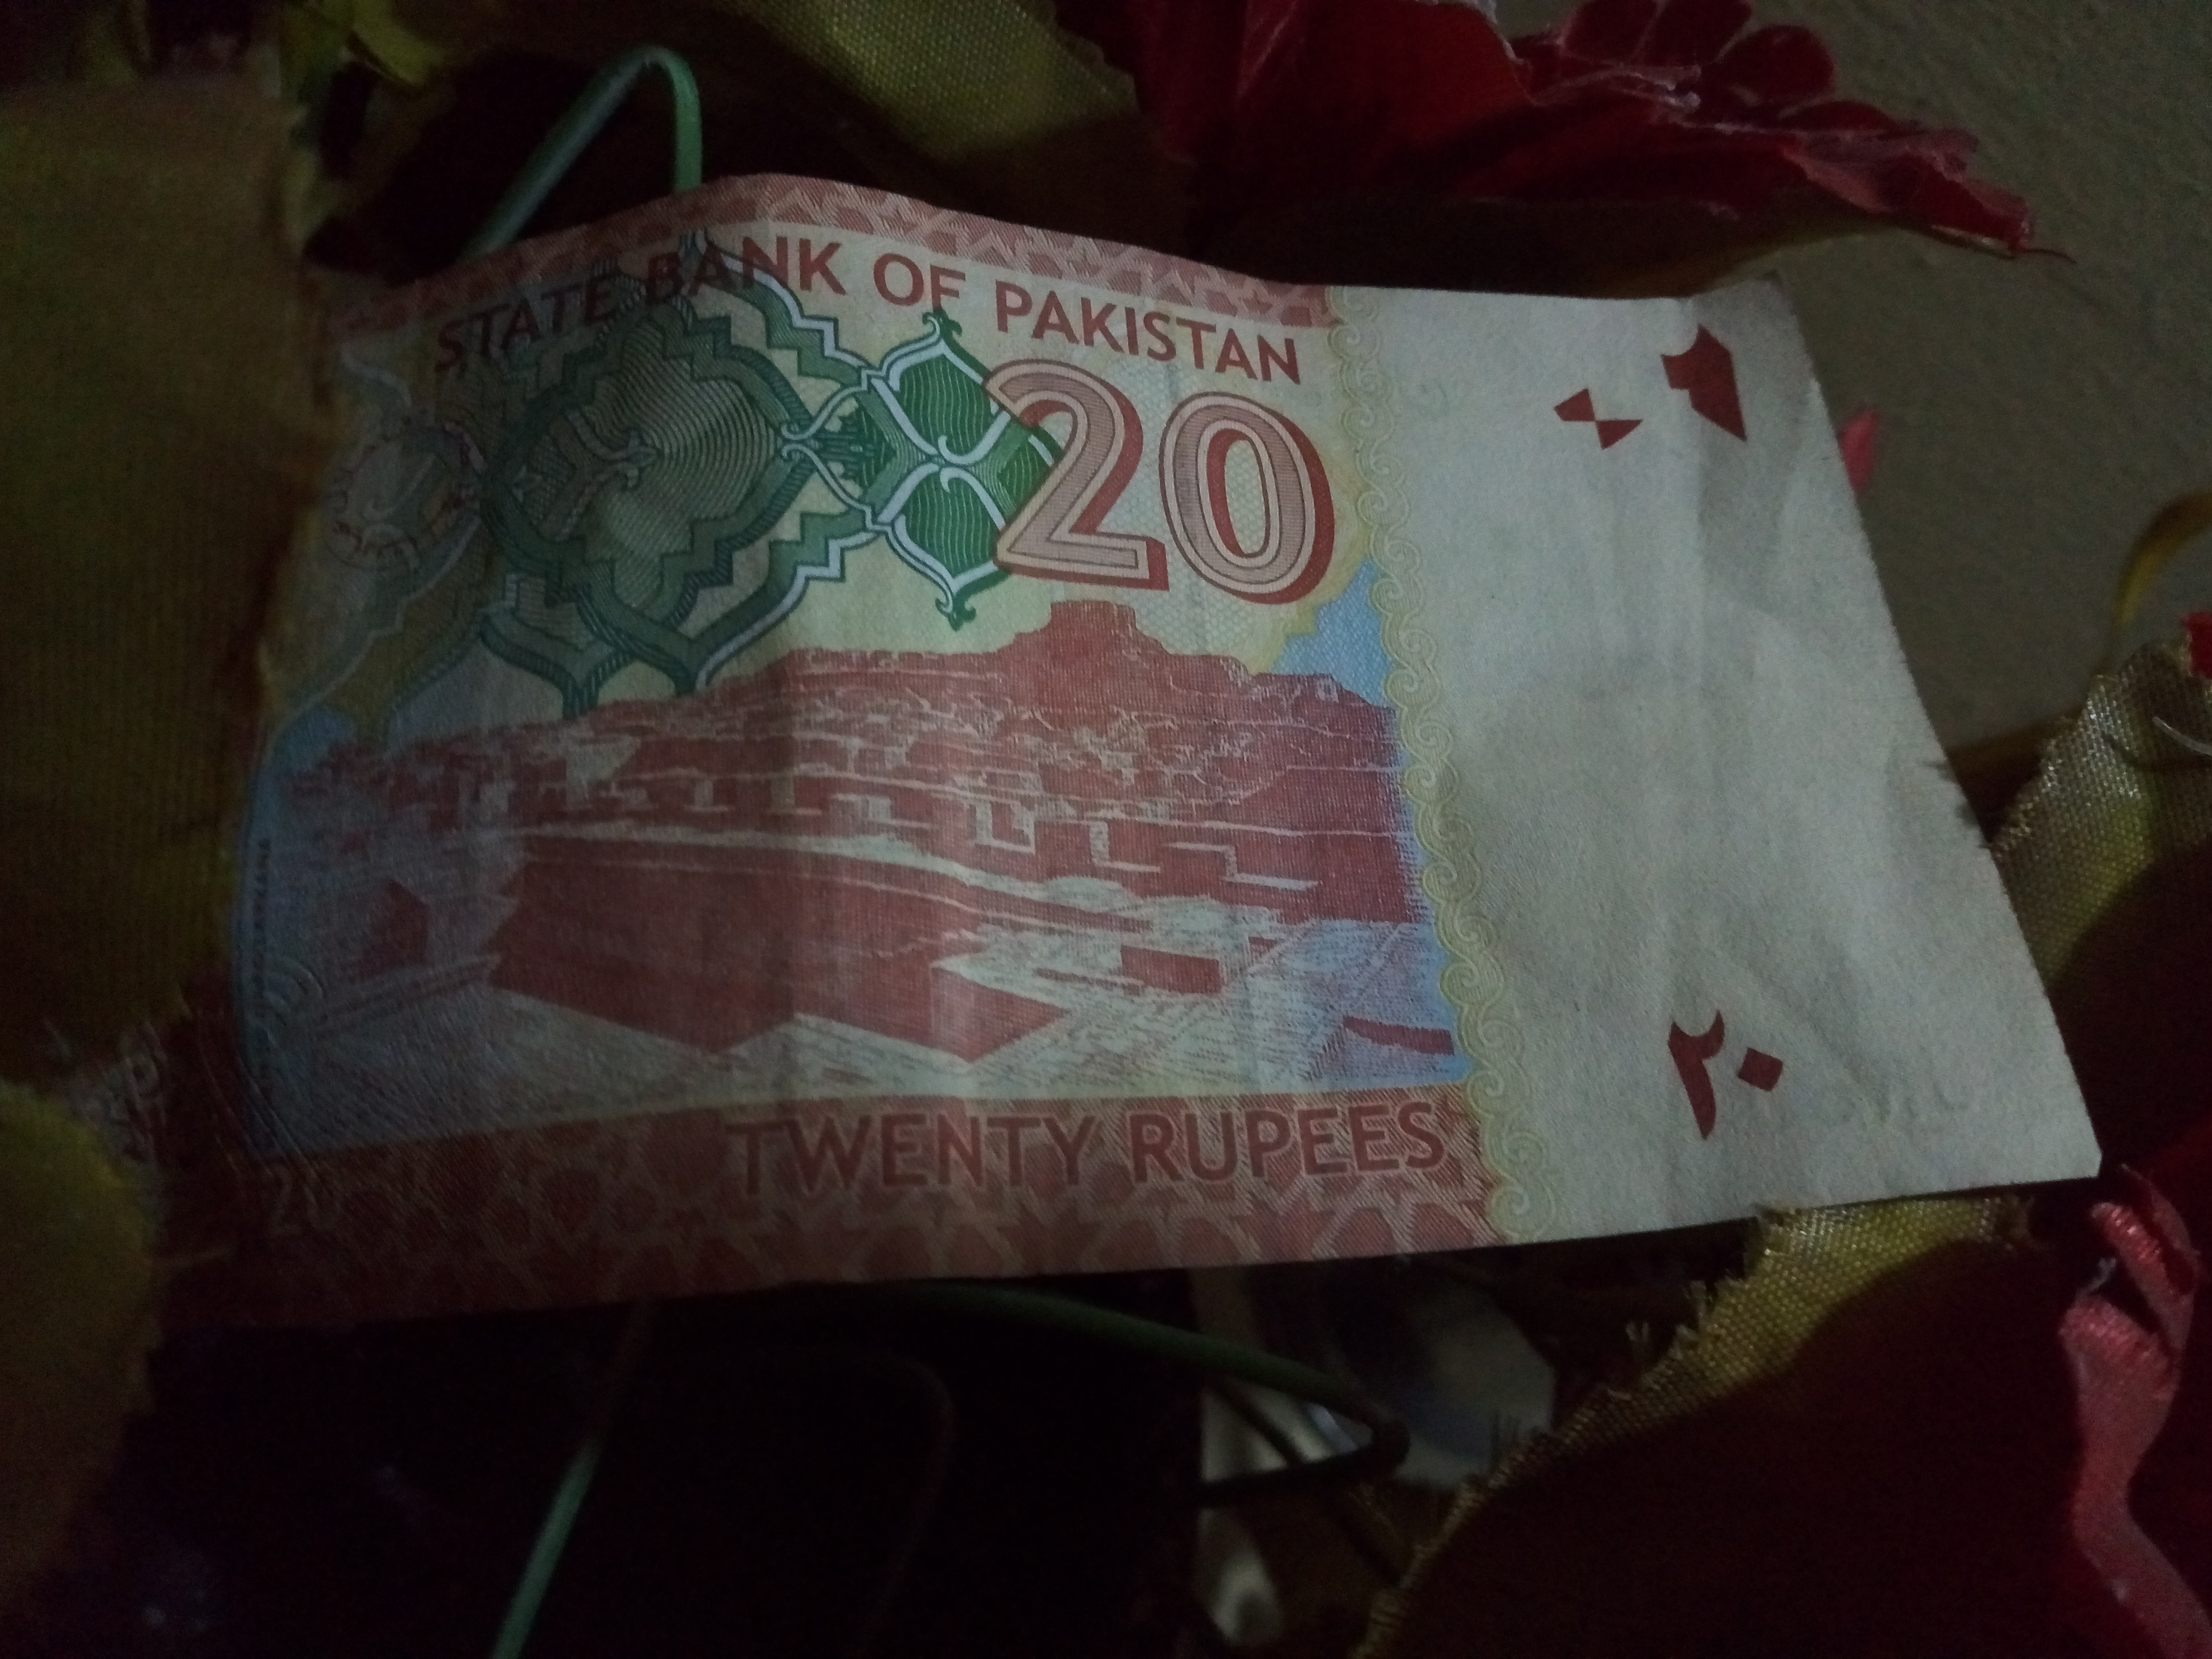20 rupee: (181, 148, 2087, 1316), (1601, 978, 1897, 1218)
